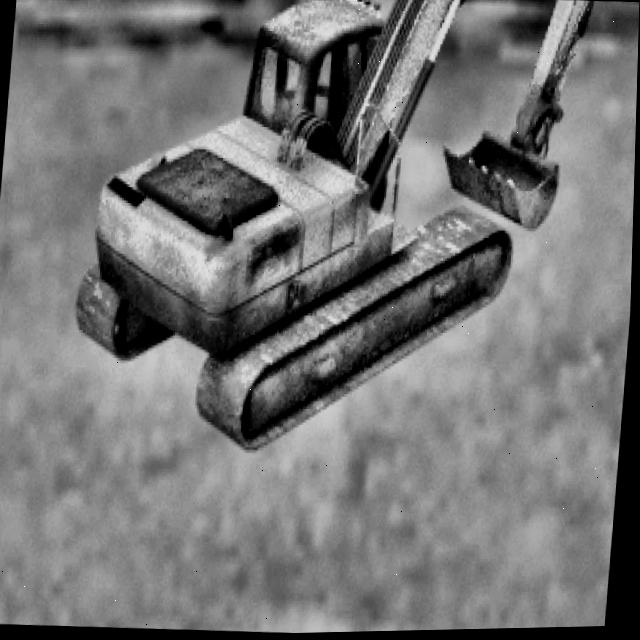excavator: (64, 0, 636, 470)
